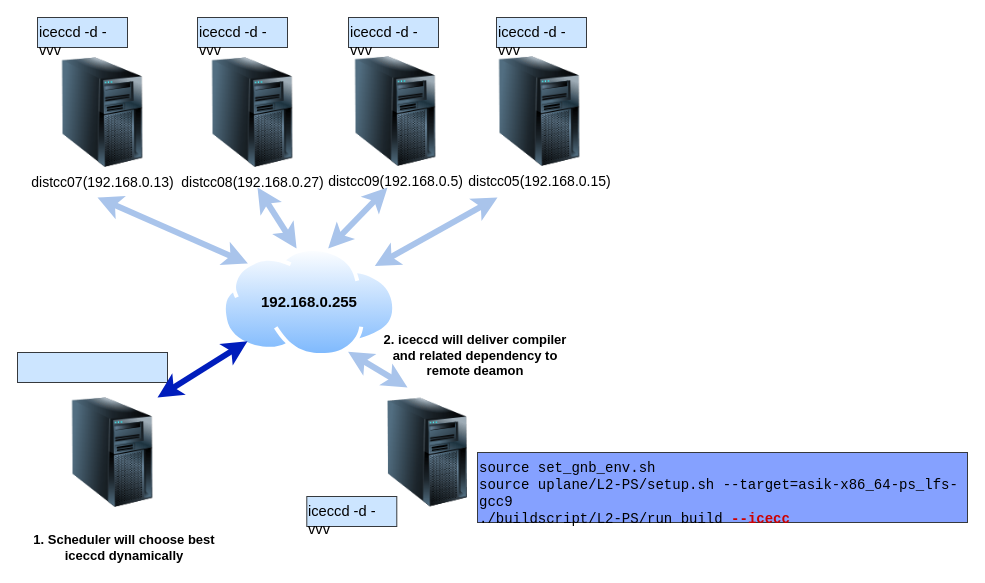
This 985x583 diagram has some shape labels left out. Each missing label, with the centre of its shape:
distcc06(192.168.0.17): (112,452)
distcc10(192.168.0.21): (427,452)
icecc-scheduler -vvv: (92,367)
